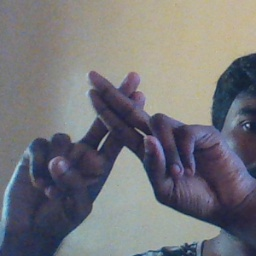F: (54, 62, 185, 190)
